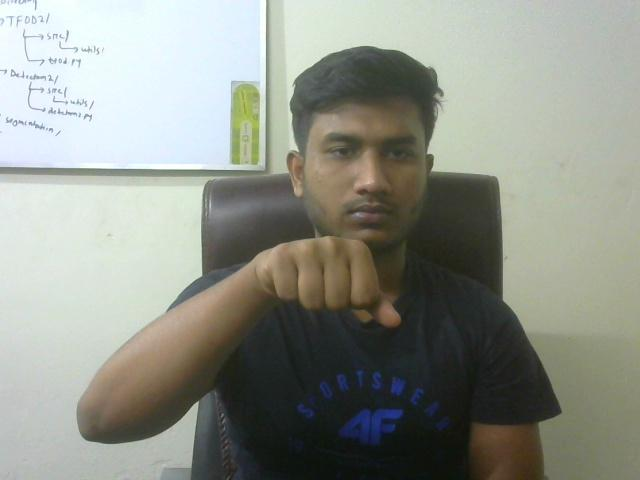Yes: (245, 228, 411, 350)
